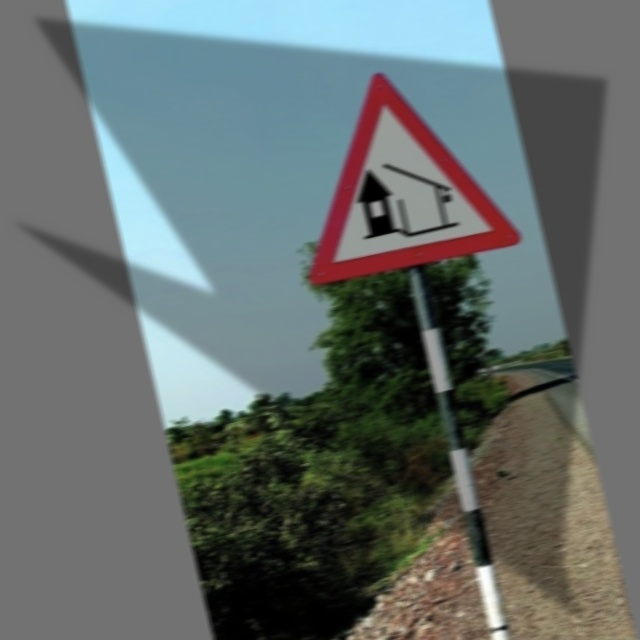Barrier_Ahead: (267, 49, 524, 304)
